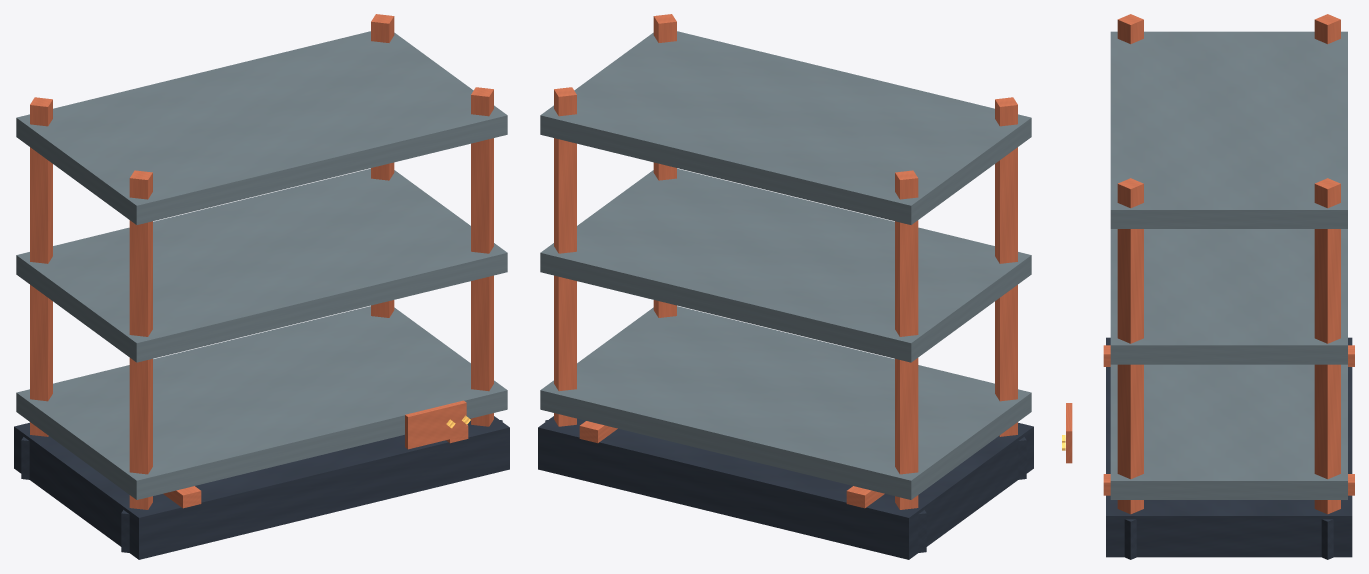
The model's file is atlas100-s025-a06.lod1.glb.
3 views of the same model, side by side, from view 1: azimuth 30°, elevation 25°; view 2: azimuth 150°, elevation 25°; view 3: azimuth 270°, elevation 25° (orthographic).
Parts seen in each view (by area): view 1: atlas100-s025-a06:part-013, atlas100-s025-a06:part-012, atlas100-s025-a06:part-011, atlas100-s025-a06:part-000, atlas100-s025-a06:part-005, atlas100-s025-a06:part-009, atlas100-s025-a06:part-003, atlas100-s025-a06:part-014, atlas100-s025-a06:part-007; view 2: atlas100-s025-a06:part-013, atlas100-s025-a06:part-011, atlas100-s025-a06:part-012, atlas100-s025-a06:part-000, atlas100-s025-a06:part-003, atlas100-s025-a06:part-007, atlas100-s025-a06:part-005, atlas100-s025-a06:part-009; view 3: atlas100-s025-a06:part-013, atlas100-s025-a06:part-012, atlas100-s025-a06:part-011, atlas100-s025-a06:part-000, atlas100-s025-a06:part-007, atlas100-s025-a06:part-009, atlas100-s025-a06:part-003, atlas100-s025-a06:part-005, atlas100-s025-a06:part-008, atlas100-s025-a06:part-010, atlas100-s025-a06:part-014.
Boxes of the visible parts, left/top/right/bottom form: atlas100-s025-a06:part-013: left=16, top=31, right=507, bottom=224; atlas100-s025-a06:part-012: left=16, top=168, right=507, bottom=362; atlas100-s025-a06:part-011: left=16, top=306, right=507, bottom=499; atlas100-s025-a06:part-000: left=14, top=416, right=509, bottom=559; atlas100-s025-a06:part-005: left=129, top=170, right=152, bottom=509; atlas100-s025-a06:part-009: left=471, top=87, right=493, bottom=426; atlas100-s025-a06:part-003: left=30, top=97, right=52, bottom=436; atlas100-s025-a06:part-014: left=405, top=400, right=466, bottom=449; atlas100-s025-a06:part-007: left=371, top=14, right=394, bottom=317; atlas100-s025-a06:part-013: left=540, top=31, right=1031, bottom=224; atlas100-s025-a06:part-011: left=540, top=306, right=1031, bottom=499; atlas100-s025-a06:part-012: left=540, top=168, right=1031, bottom=362; atlas100-s025-a06:part-000: left=538, top=416, right=1033, bottom=559; atlas100-s025-a06:part-003: left=895, top=170, right=918, bottom=509; atlas100-s025-a06:part-007: left=554, top=87, right=576, bottom=426; atlas100-s025-a06:part-005: left=995, top=97, right=1017, bottom=436; atlas100-s025-a06:part-009: left=653, top=14, right=676, bottom=317; atlas100-s025-a06:part-013: left=1110, top=31, right=1347, bottom=228; atlas100-s025-a06:part-012: left=1110, top=229, right=1347, bottom=364; atlas100-s025-a06:part-011: left=1110, top=364, right=1347, bottom=499; atlas100-s025-a06:part-000: left=1106, top=337, right=1352, bottom=557; atlas100-s025-a06:part-007: left=1314, top=178, right=1340, bottom=514; atlas100-s025-a06:part-009: left=1117, top=178, right=1143, bottom=514; atlas100-s025-a06:part-003: left=1314, top=14, right=1340, bottom=44; atlas100-s025-a06:part-005: left=1117, top=14, right=1143, bottom=44; atlas100-s025-a06:part-008: left=1321, top=519, right=1333, bottom=559; atlas100-s025-a06:part-010: left=1124, top=519, right=1136, bottom=559; atlas100-s025-a06:part-014: left=1066, top=403, right=1072, bottom=463.
Size of the model in its own units: 2.47 by 2.3 by 1.66.
Materials: 4 (4 with a texture image).
